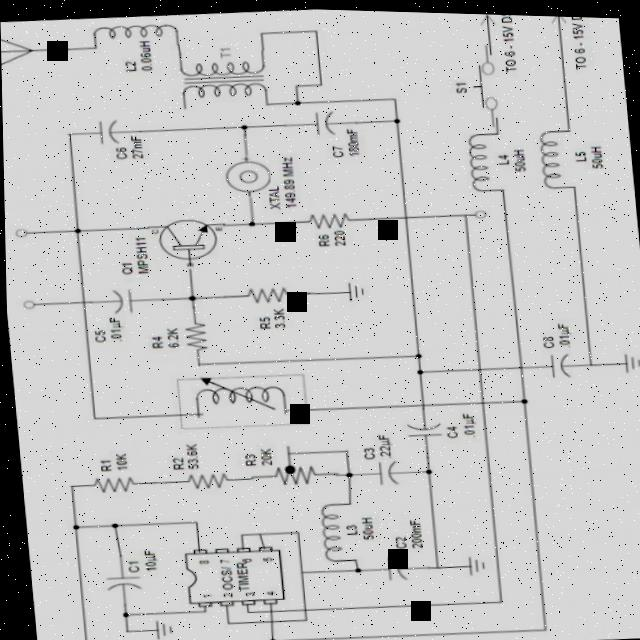capacitor: (93, 560, 144, 600), (301, 103, 350, 141), (101, 279, 143, 321), (86, 110, 129, 151), (532, 342, 572, 383), (362, 452, 405, 487), (372, 548, 409, 588), (400, 412, 445, 444)
ground: (335, 274, 368, 304), (607, 344, 640, 374), (453, 549, 486, 577), (143, 614, 177, 640)
inductor: (183, 366, 298, 421), (171, 68, 279, 113), (168, 42, 275, 83), (453, 123, 512, 195), (84, 16, 190, 54), (529, 119, 583, 193), (311, 498, 343, 564)
node: (508, 391, 533, 405), (64, 221, 84, 238), (180, 289, 198, 306), (103, 518, 120, 533), (241, 216, 262, 228), (416, 463, 435, 476), (408, 362, 425, 376), (231, 121, 252, 132), (63, 522, 79, 535), (406, 348, 424, 359), (345, 563, 361, 575), (115, 608, 128, 621), (387, 114, 403, 123), (288, 96, 301, 107), (261, 634, 276, 640)
resistor: (258, 452, 327, 498), (168, 464, 238, 498), (80, 466, 144, 503), (236, 278, 303, 309), (171, 318, 212, 358), (301, 207, 359, 229)
source: (470, 11, 502, 29), (544, 13, 572, 27)
switch: (451, 47, 508, 114)
transistor: (146, 206, 227, 266)
